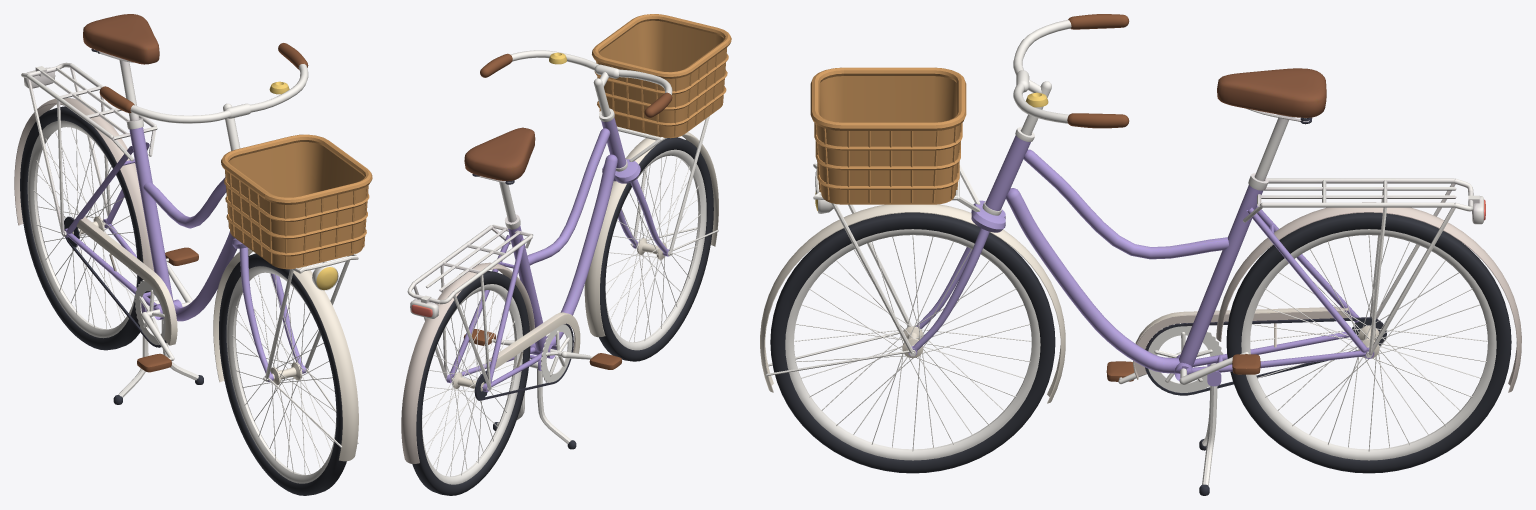
File: bicycle.glb
The picture shows the model from 3 angles, left to right: view 1: azimuth 30°, elevation 25°; view 2: azimuth 150°, elevation 25°; view 3: azimuth 270°, elevation 25°; orthographic projection. The views are drawn at different scales.
Parts seen in each view (by area): view 1: bicycle_steering, bicycle_body, bicycle_wheel_front, bicycle_wheel_rear, bicycle_crank, bicycle_kickstand; view 2: bicycle_steering, bicycle_body, bicycle_wheel_front, bicycle_wheel_rear, bicycle_crank, bicycle_kickstand; view 3: bicycle_body, bicycle_steering, bicycle_wheel_front, bicycle_wheel_rear, bicycle_crank, bicycle_kickstand.
Boxes of the visible parts, box(x1,y1,x2,y2) form: bicycle_steering: box(99, 43, 372, 461); bicycle_body: box(14, 14, 236, 347); bicycle_wheel_front: box(219, 253, 346, 495); bicycle_wheel_rear: box(20, 106, 150, 350); bicycle_crank: box(134, 247, 198, 372); bicycle_kickstand: box(113, 299, 203, 404); bicycle_steering: box(480, 14, 731, 337); bicycle_body: box(401, 108, 627, 463); bicycle_wheel_front: box(599, 137, 713, 361); bicycle_wheel_rear: box(412, 271, 530, 495); bicycle_crank: box(463, 324, 621, 384); bicycle_kickstand: box(493, 358, 576, 449); bicycle_body: box(982, 68, 1521, 395); bicycle_steering: box(760, 14, 1129, 403); bicycle_wheel_front: box(770, 212, 1055, 473); bicycle_wheel_rear: box(1226, 212, 1511, 473); bicycle_crank: box(1106, 323, 1260, 395); bicycle_kickstand: box(1199, 363, 1217, 495).
Size of the model in its own units: 0.617 by 1.1 by 1.87.
Materials: 20 (1 with a texture image).
